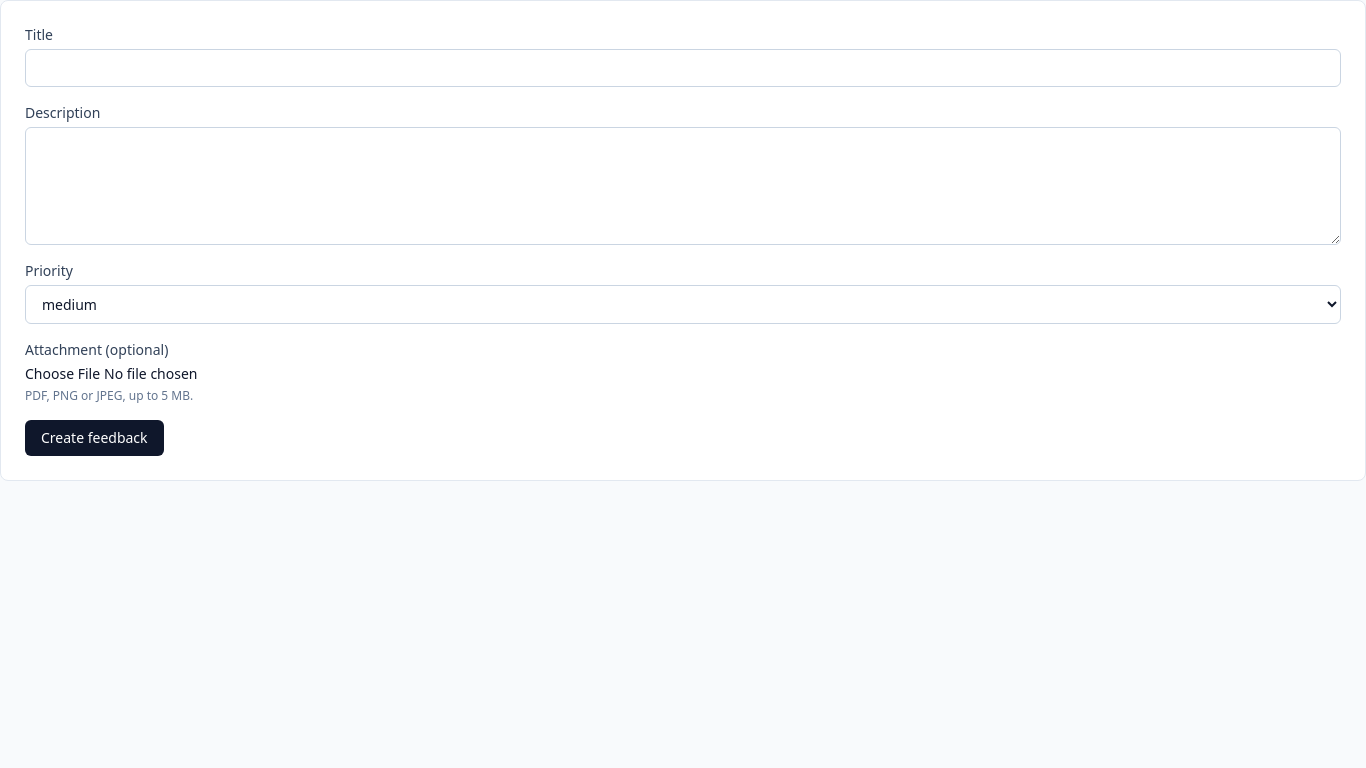
CreateFeedbackForm › shows validation errors and does not submit when fields are invalid
Step 1. Click the button "Create feedback" → (94, 438), box [25,420,164,456]
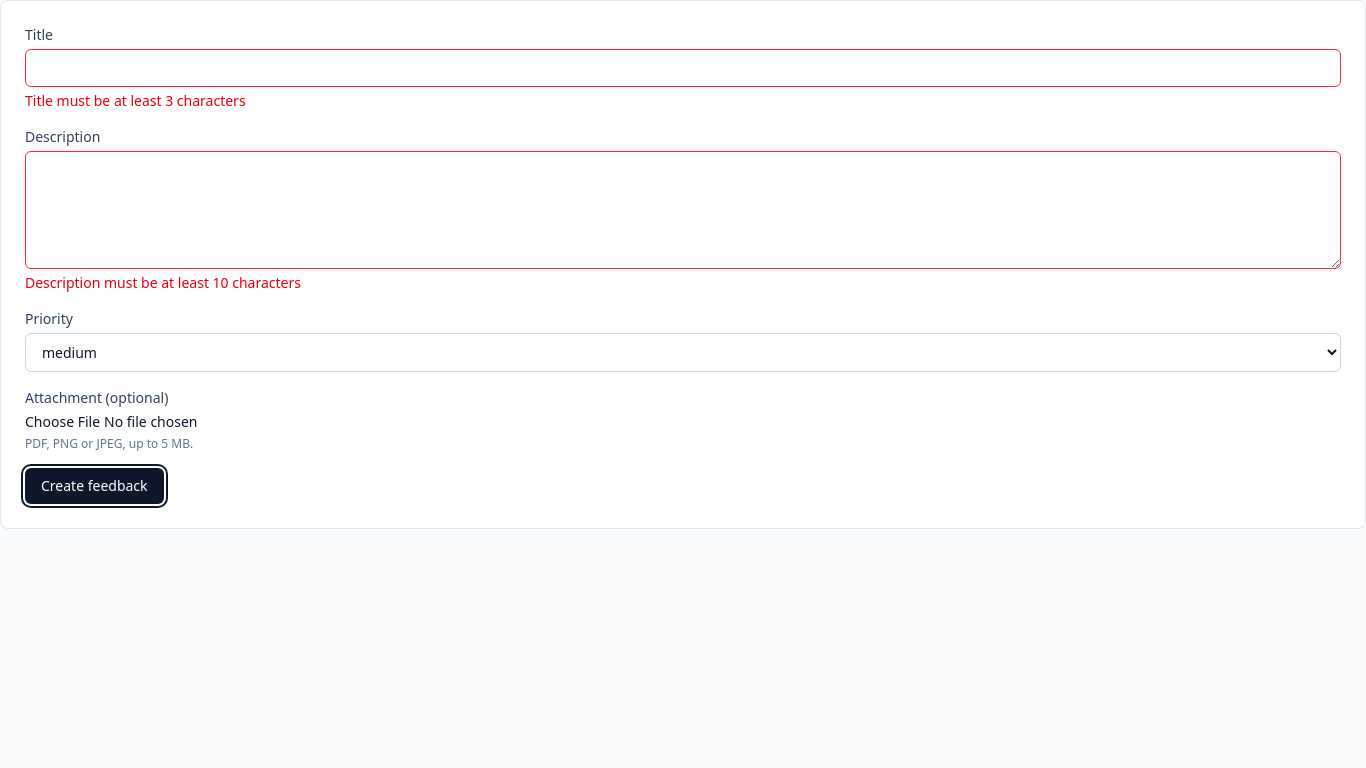
Expected: the text "Title must be at least 3 characters" is shown, [25,91,246,110]
Expected: the text "Description must be at least 10 characters" is shown, [25,273,301,292]
